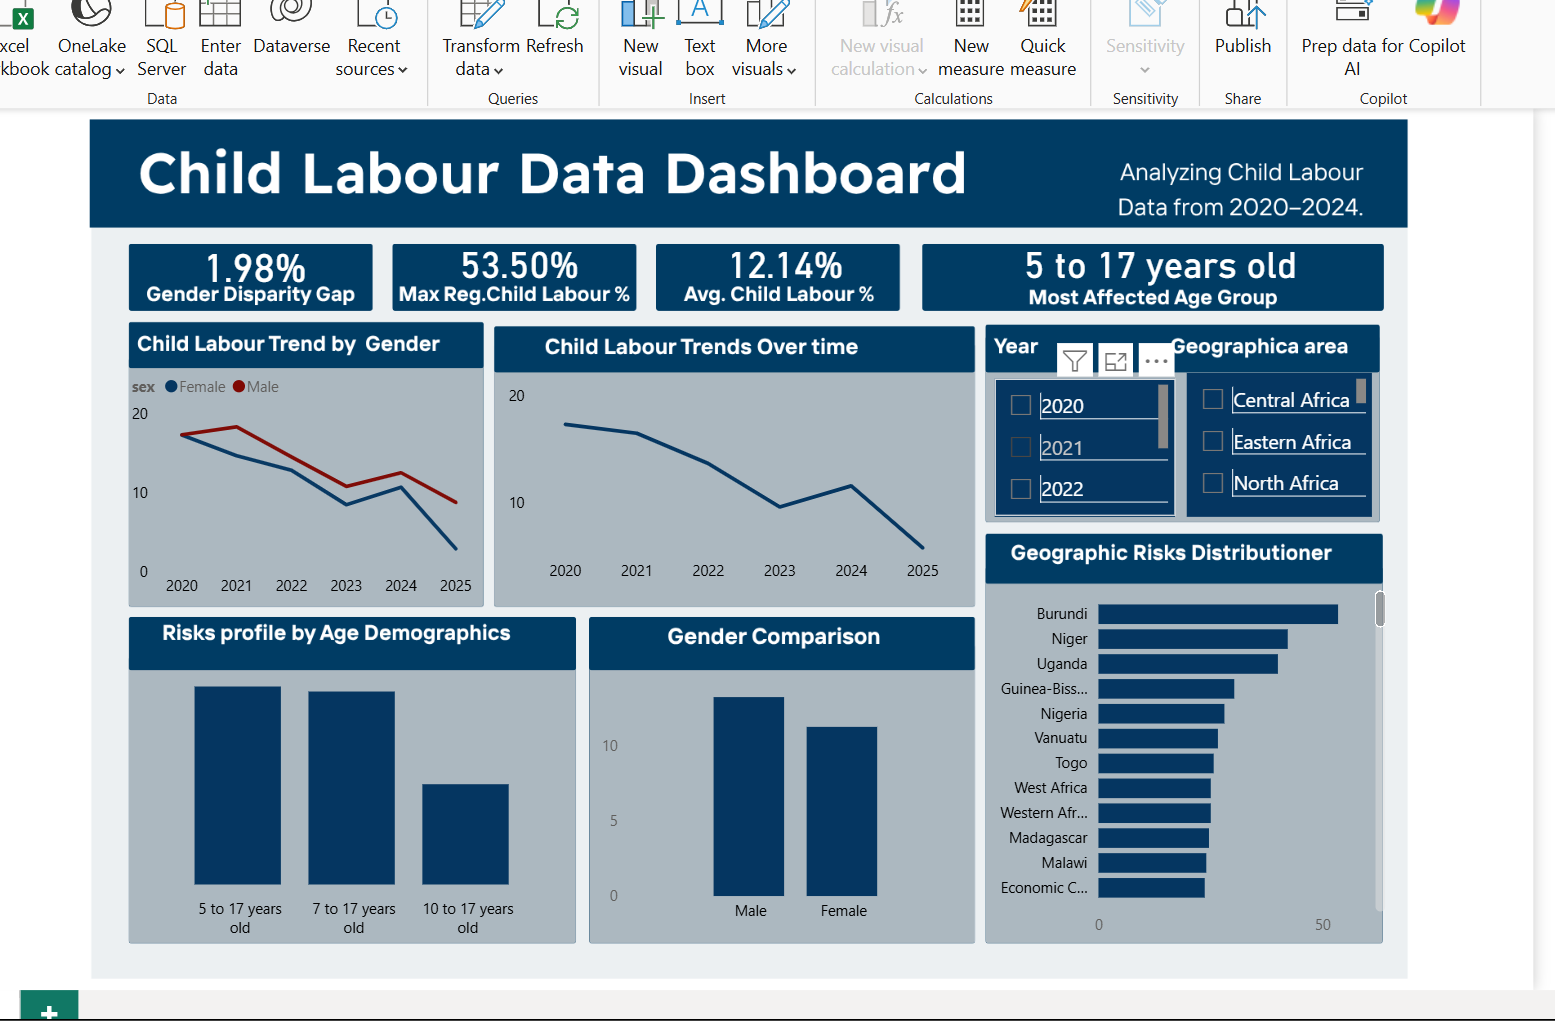

The page's visual inventory and layout, read from the dashboard file:
{"tool":"powerbi","page":{"name":"Page 1","canvas":[1280,720],"ordinal":0},"visuals":[{"type":"barChart","title":"Geographic Risk Distribution","fields":{"Category":["ChildLabourData.geographic_area"],"Y":["Avg(ChildLabourData.child_labour_percentage)"]},"box":[829.3,381.5,336.2,303.8],"z":0},{"type":"lineChart","title":"Child Labour Trend Over Time","fields":{"Category":["ChildLabourData.year"],"Y":["Avg(ChildLabourData.child_labour_percentage)"]},"box":[439.4,220.4,371.6,175.2],"z":1000},{"type":"columnChart","title":"Gender Comparison","fields":{"Category":["ChildLabourData.sex"],"Y":["Avg(ChildLabourData.child_labour_percentage)"]},"box":[515.7,457.7,306.6,216.2],"z":2000},{"type":"lineChart","title":"Child Labour Trends by Gender","fields":{"Category":["ChildLabourData.year"],"Y":["Avg(ChildLabourData.child_labour_percentage)"],"Series":["ChildLabourData.sex"]},"box":[131.4,207.7,292.5,200.6],"z":3000},{"type":"clusteredColumnChart","title":"Risk Profile by Age Demographics","fields":{"Y":["Avg(ChildLabourData.child_labour_percentage)"],"Category":["ChildLabourData.age_group"]},"box":[131.4,439.4,358.9,245.8],"z":4000},{"type":"card","fields":{"Values":["ChildLabourData.Gender Disparity Gap"]},"box":[146.9,98.9,179.4,57.9],"z":5000},{"type":"card","fields":{"Values":["ChildLabourData.Average Child Labour %"]},"box":[601.9,98.9,135.6,53.7],"z":6000},{"type":"card","fields":{"Values":["ChildLabourData.Most Affected Age Group"]},"box":[853.3,100.3,245.8,52.3],"z":7000},{"type":"card","fields":{"Values":["ChildLabourData.Max Regional Child Labour %"]},"box":[394.2,90.4,115.8,70.6],"z":8000},{"type":"slicer","fields":{"Values":["ChildLabourData.year"]},"box":[840.6,220.4,146.9,113],"z":9000},{"type":"slicer","fields":{"Values":["ChildLabourData.geographic_area"]},"box":[997.4,216.2,151.2,117.3],"z":10000}]}

Visuals, with their boxes on the page's 1280x720 design canvas (x1, y1, x2, y2). These are canvas units, not pixel positions in the 1555x1021 screenshot, which may show the page scaled, cropped or inside an application window:
"Geographic Risk Distribution" barChart: <region>829, 382, 1166, 685</region>
"Child Labour Trend Over Time" lineChart: <region>439, 220, 811, 396</region>
"Gender Comparison" columnChart: <region>516, 458, 822, 674</region>
"Child Labour Trends by Gender" lineChart: <region>131, 208, 424, 408</region>
"Risk Profile by Age Demographics" clusteredColumnChart: <region>131, 439, 490, 685</region>
card - ChildLabourData.Gender Disparity Gap: <region>147, 99, 326, 157</region>
card - ChildLabourData.Average Child Labour %: <region>602, 99, 738, 153</region>
card - ChildLabourData.Most Affected Age Group: <region>853, 100, 1099, 153</region>
card - ChildLabourData.Max Regional Child Labour %: <region>394, 90, 510, 161</region>
slicer - ChildLabourData.year: <region>841, 220, 988, 333</region>
slicer - ChildLabourData.geographic_area: <region>997, 216, 1149, 334</region>
